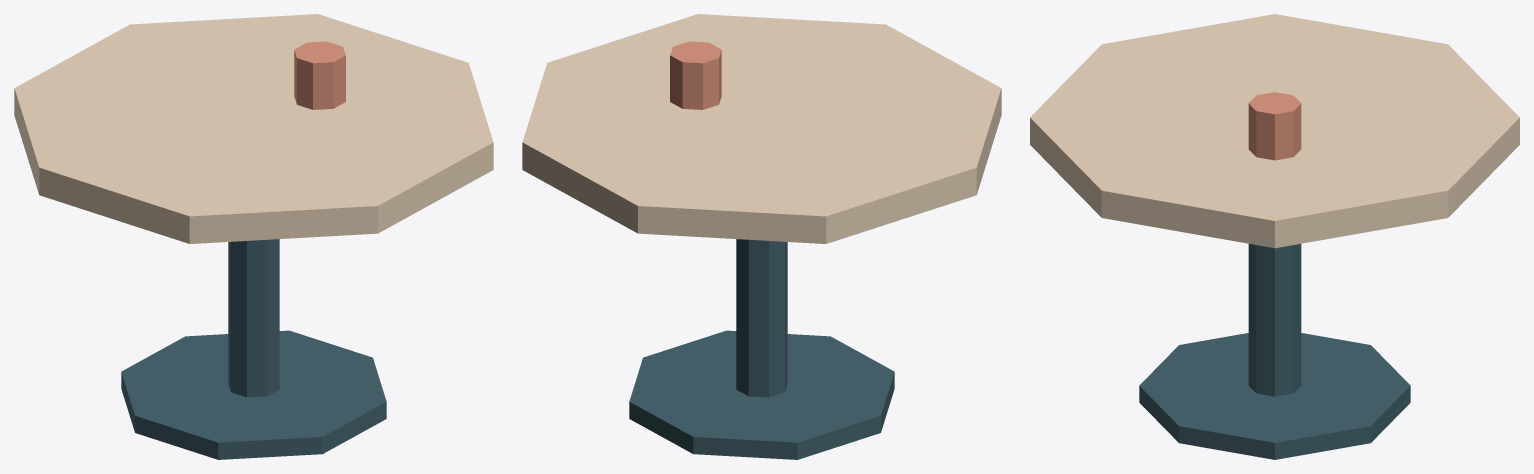
The model's file is cafeTable.obj.
The picture shows the model from 3 angles, left to right: view 1: azimuth 30°, elevation 25°; view 2: azimuth 150°, elevation 25°; view 3: azimuth 270°, elevation 25°; orthographic projection.
Visible parts, largest first — view 1: cafeTable; view 2: cafeTable; view 3: cafeTable.
Boxes of the visible parts, x1,y1,x2,y2 form: cafeTable: (14,14,493,459); cafeTable: (522,14,1001,459); cafeTable: (1030,14,1519,459).
Bounding box in the file's own units: 1.3 × 1.02 × 1.3.
